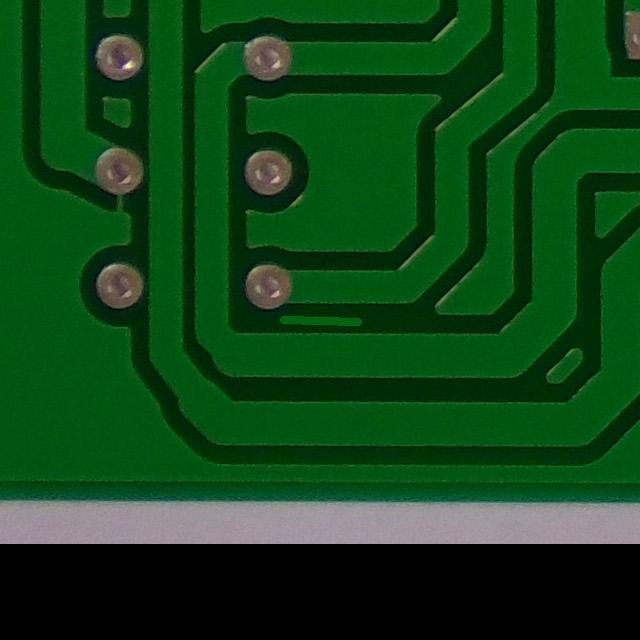spurious_copper: (273, 303, 368, 338)
